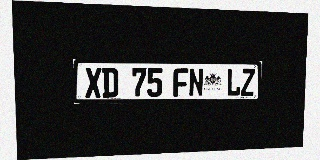5: (147, 68, 163, 97)
7: (131, 68, 147, 97)
D: (102, 68, 118, 98)
F: (173, 68, 188, 97)
L: (226, 68, 241, 96)
N: (189, 68, 204, 97)
X: (85, 68, 102, 98)
Z: (241, 69, 255, 96)
